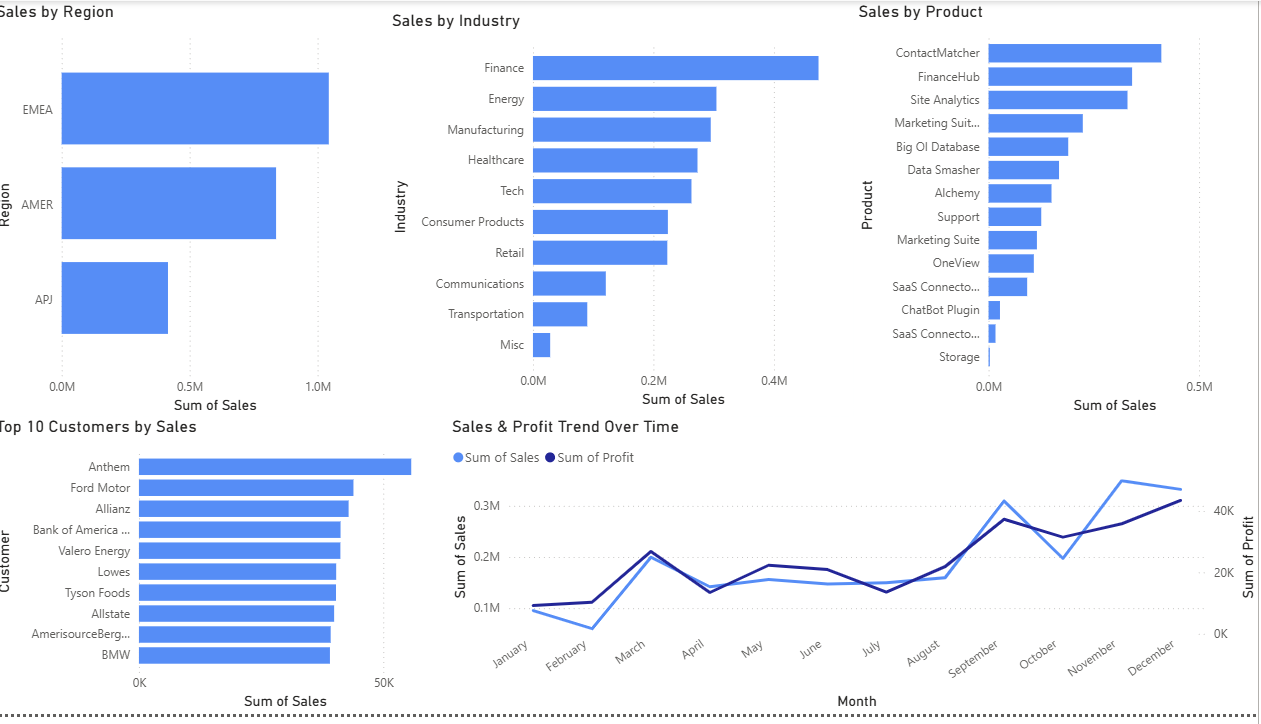

This screenshot's page, from the dashboard's own definition file:
{"tool":"powerbi","page":{"name":"SaaS Market Research Dashboard","canvas":[1280,720],"ordinal":5},"visuals":[{"type":"clusteredBarChart","title":"Sales by Region","fields":{"Category":["SaaS-Sales.Region"],"Y":["Sum(SaaS-Sales.Sales)"]},"box":[0,0,400,420],"z":0},{"type":"clusteredBarChart","title":"Sales by Industry","fields":{"Y":["Sum(SaaS-Sales.Sales)"],"Category":["SaaS-Sales.Industry"]},"box":[400,8.3,470,405],"z":1000},{"type":"clusteredBarChart","title":"Top 10 Customers by Sales","fields":{"Y":["Sum(SaaS-Sales.Sales)"],"Category":["SaaS-Sales.Customer"]},"box":[0,420,460,300],"z":2000},{"type":"lineChart","title":"Sales & Profit Trend Over Time","fields":{"Category":["SaaS-Sales.Order Date.Variation.Date Hierarchy.Month"],"Y":["Sum(SaaS-Sales.Sales)"],"Y2":["Sum(SaaS-Sales.Profit)"]},"box":[460,420,820,300],"z":3000},{"type":"clusteredBarChart","title":"Sales by Product","fields":{"Category":["SaaS-Sales.Product"],"Y":["Sum(SaaS-Sales.Sales)"]},"box":[870,0,410,420],"z":4000}]}

Visuals, with their boxes in screenshot pixels (x1, y1, x2, y2), scaled from the page's 1280x720 canvas onto the 1261x724 screenshot:
"Sales by Region" clusteredBarChart: l=0, t=0, r=394, b=422
"Sales by Industry" clusteredBarChart: l=394, t=8, r=857, b=416
"Top 10 Customers by Sales" clusteredBarChart: l=0, t=422, r=453, b=723
"Sales & Profit Trend Over Time" lineChart: l=453, t=422, r=1260, b=723
"Sales by Product" clusteredBarChart: l=857, t=0, r=1260, b=422
